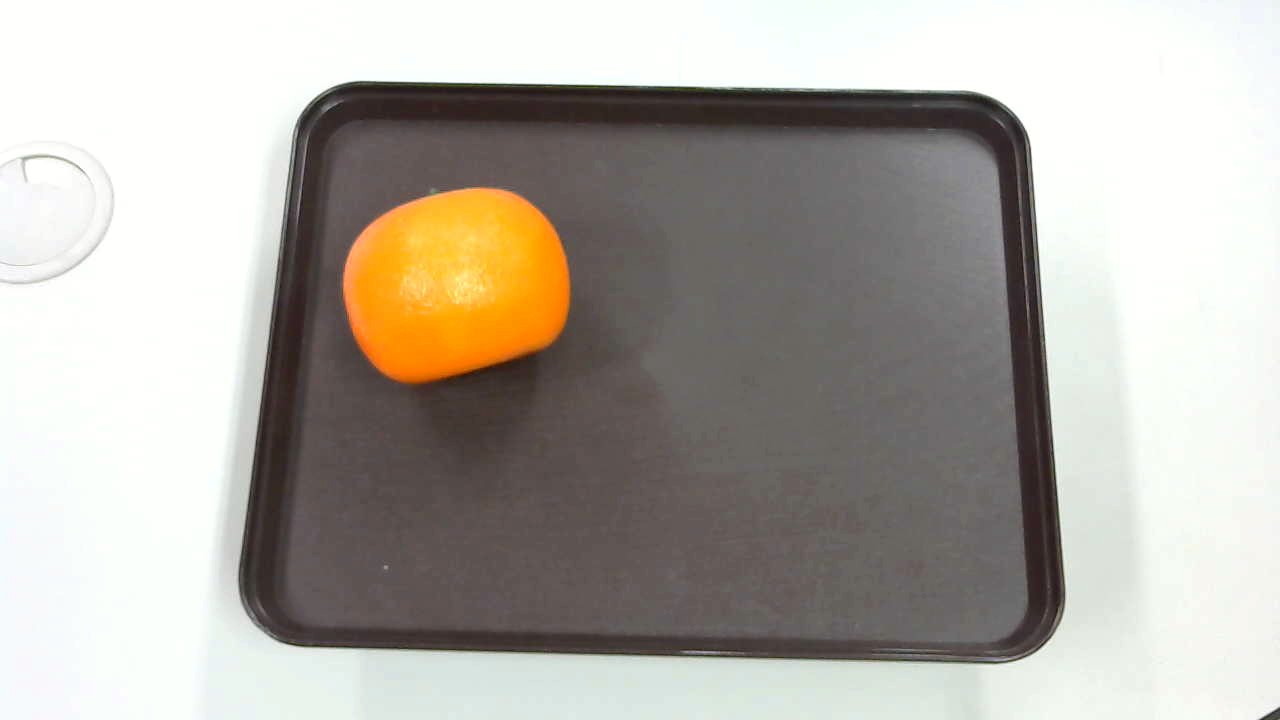orange: (327, 183, 588, 402)
